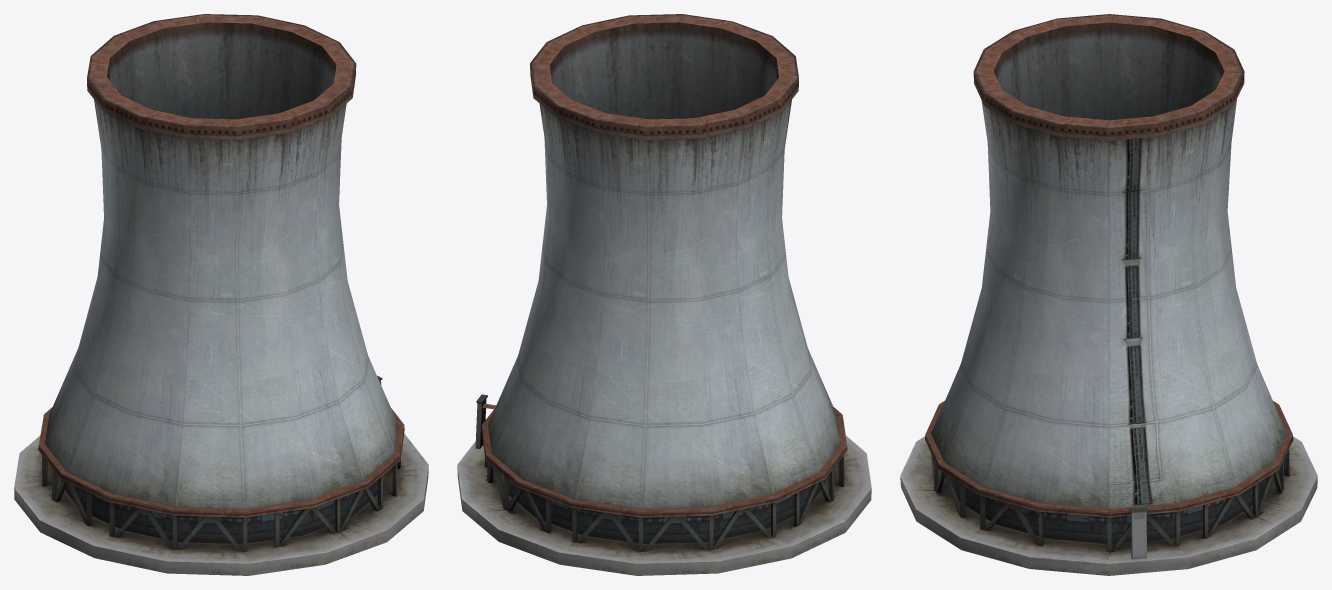
The model's file is chimney.fbx.
The picture shows the model from 3 angles, left to right: view 1: azimuth 30°, elevation 25°; view 2: azimuth 150°, elevation 25°; view 3: azimuth 270°, elevation 25°; orthographic projection.
Visible parts, largest first — view 1: chimney; view 2: chimney; view 3: chimney.
Part boxes in pixels (x1,y1,x2,y2): chimney: (14, 14, 428, 575); chimney: (457, 14, 871, 575); chimney: (900, 14, 1317, 575).
Size of the model in its own units: 4531 by 4977 by 4523.
